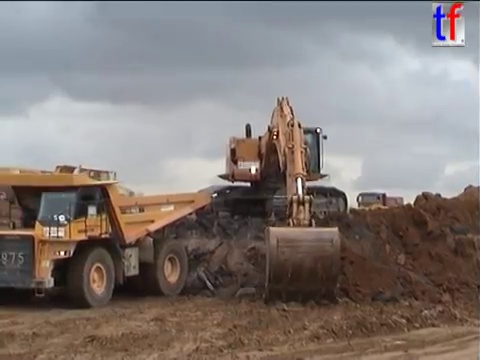excavator: (192, 93, 352, 308)
truck: (1, 170, 213, 310), (1, 163, 136, 219), (354, 191, 406, 217)
